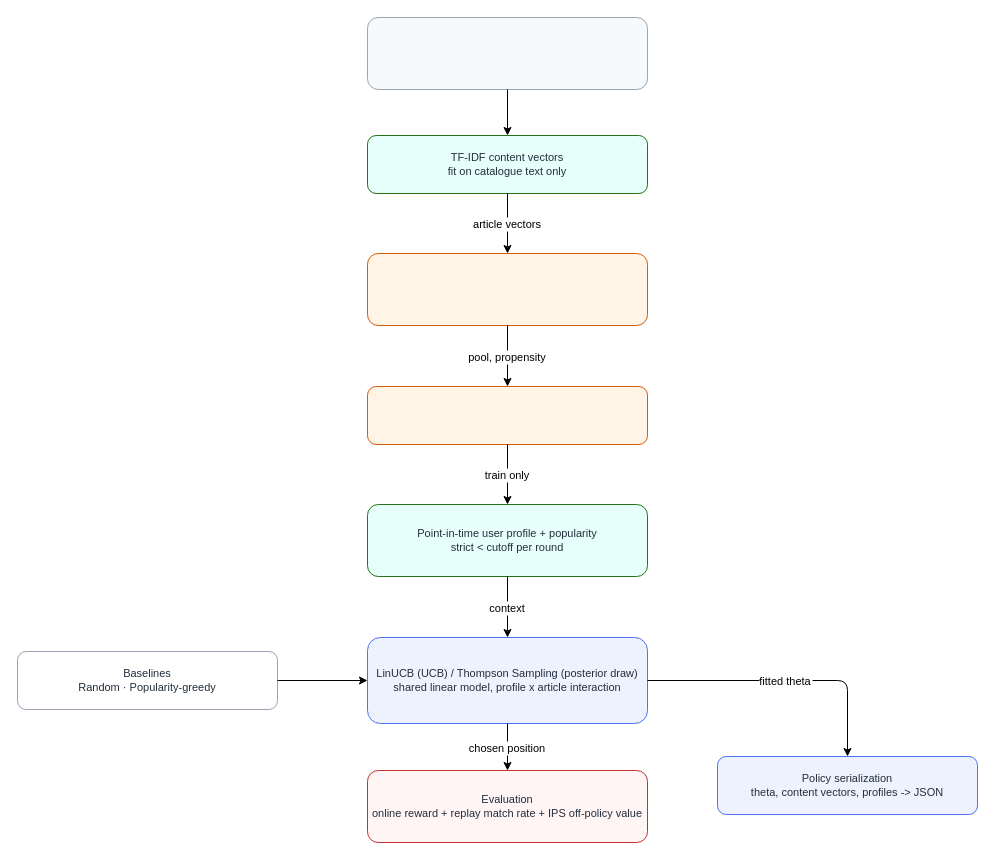
Image size: 995x860. Some labels were removed from this diagram. Each missing label, with the centre of its shape:
Bandit round builder candidate pool + synthetic logging policy: the point at 507,289
Global temporal split train = replay stream: the point at 507,415
Raw interaction log + article catalogue person, content, event, time: the point at 507,53
